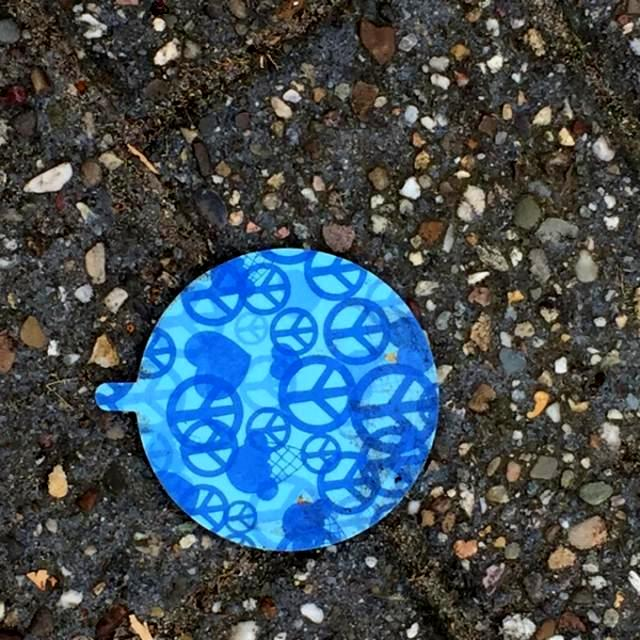Paper: (91, 241, 443, 559)
